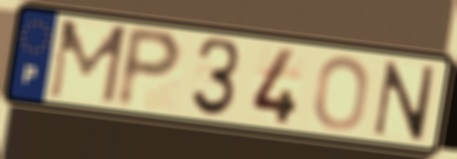3: (190, 36, 244, 120)
4: (248, 45, 300, 126)
M: (44, 17, 130, 107)
N: (370, 58, 439, 143)
O: (311, 54, 372, 133)
P: (113, 23, 186, 112)
